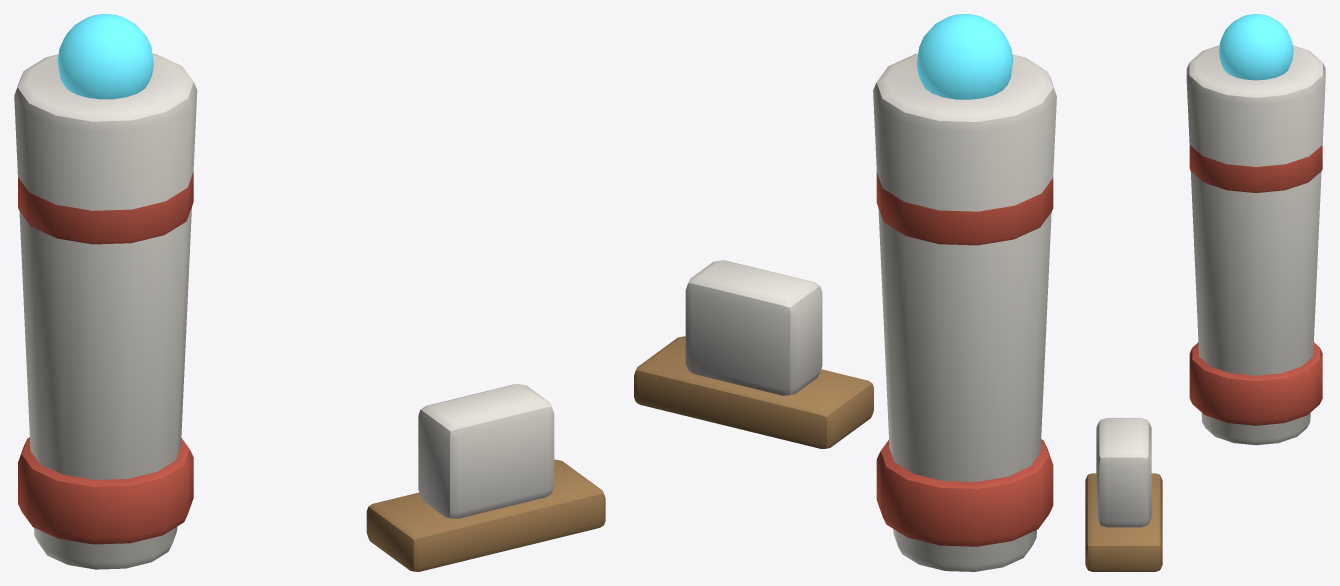
The picture shows the model from 3 angles, left to right: view 1: azimuth 30°, elevation 25°; view 2: azimuth 150°, elevation 25°; view 3: azimuth 270°, elevation 25°; orthographic projection. The views are drawn at different scales.
Parts seen in each view (by area): view 1: landmark_e842d168; view 2: landmark_e842d168; view 3: landmark_e842d168.
Boxes of the visible parts, box(x1,y1,x2,y2) form: landmark_e842d168: box(14, 14, 605, 571); landmark_e842d168: box(634, 14, 1056, 571); landmark_e842d168: box(1085, 14, 1325, 571).
Bounding box in the file's own units: 3.85 × 4.09 × 2.18.
